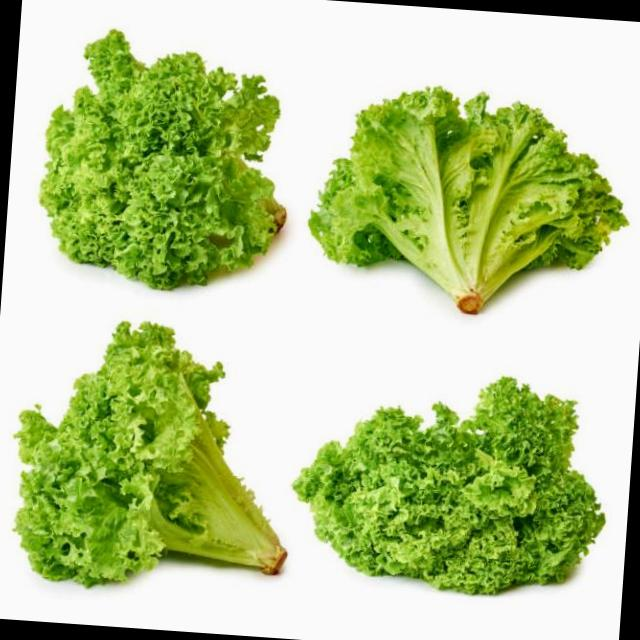Lettuce-Ready-to-Harvest: (16, 323, 286, 584), (311, 87, 625, 311), (295, 378, 603, 593), (40, 31, 284, 287)
